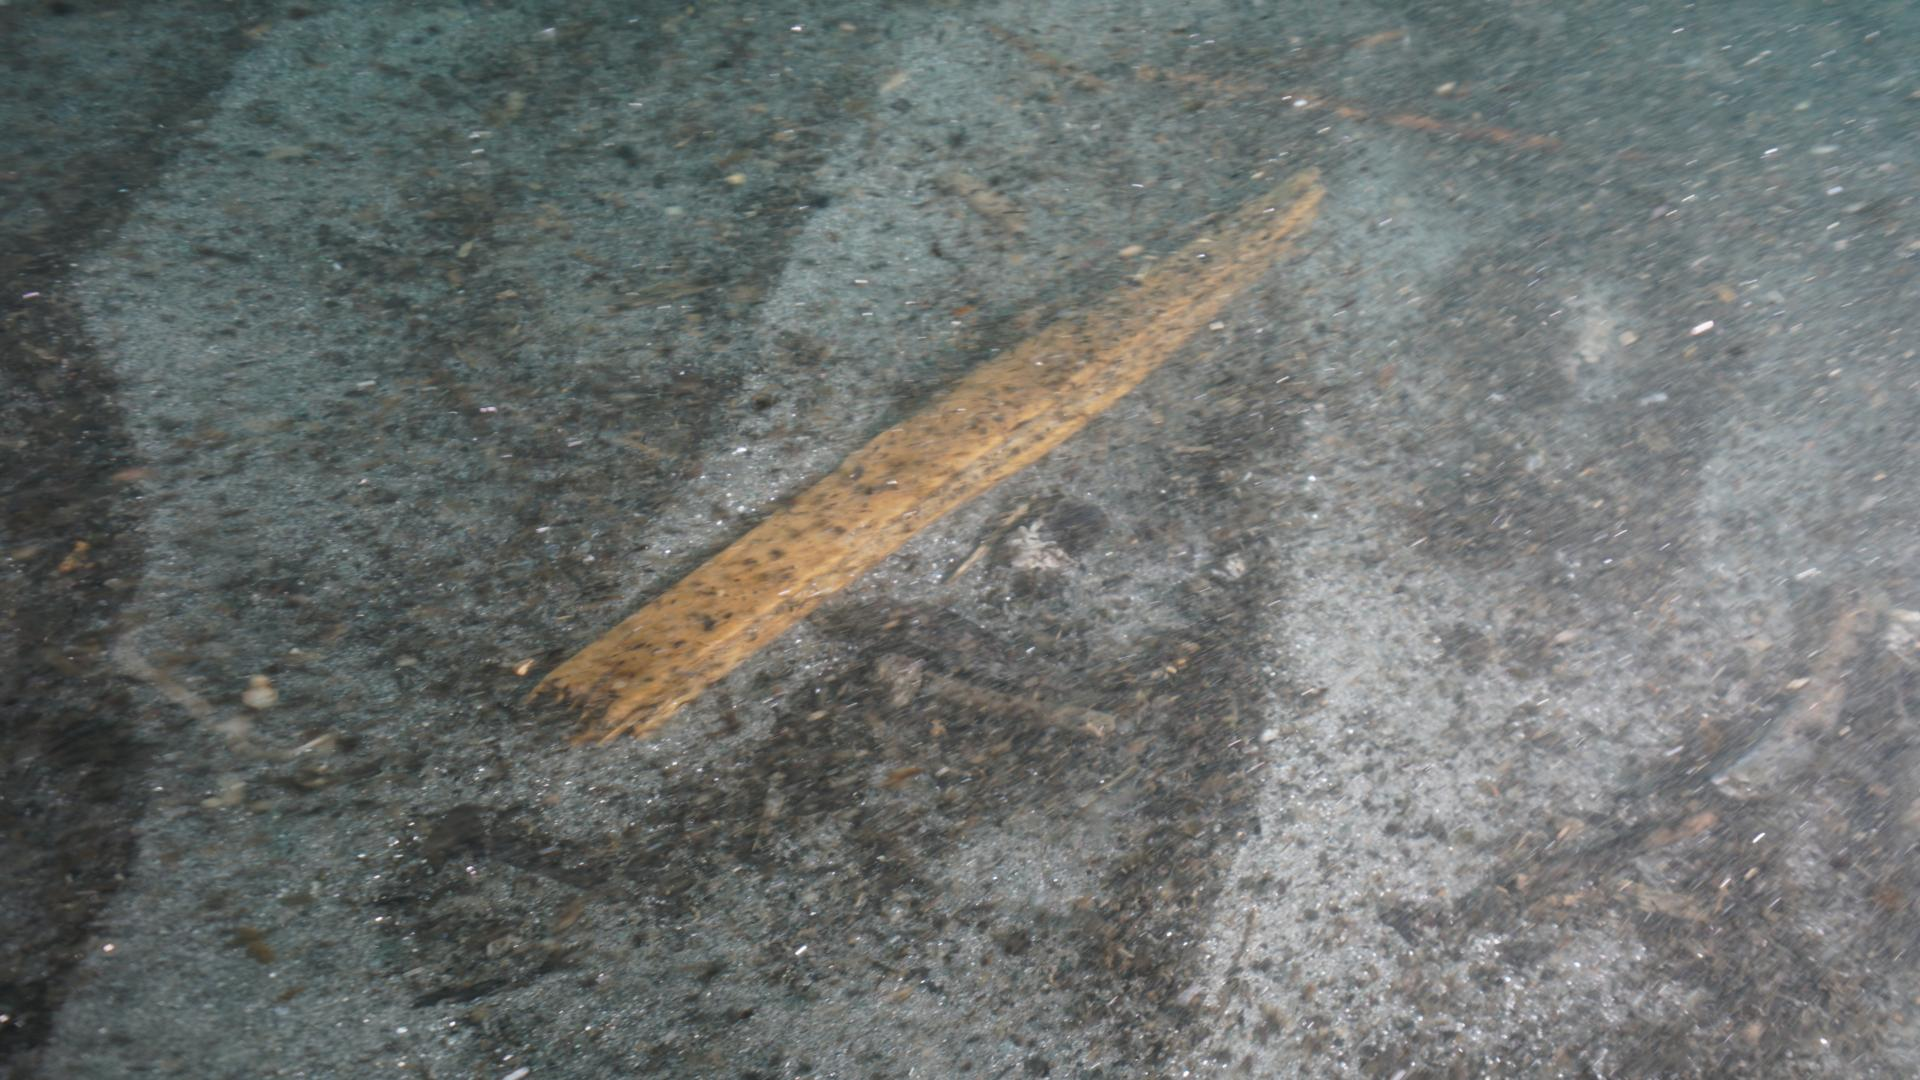wood: (517, 162, 1327, 756)
